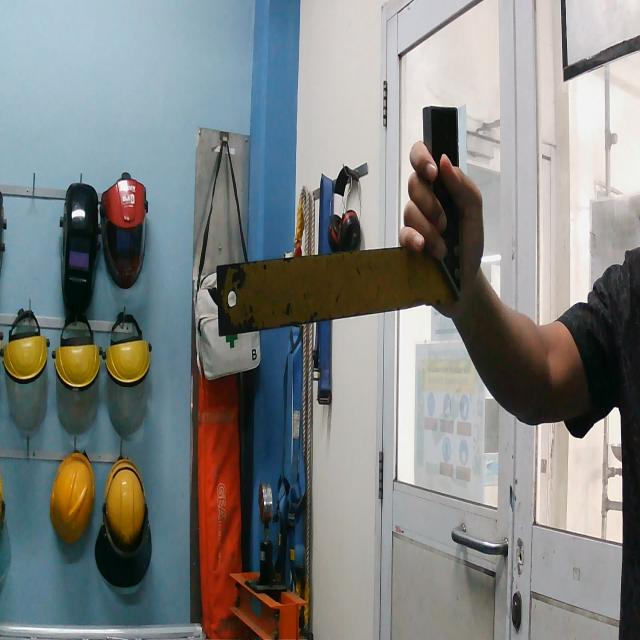penggaris_siku: (207, 100, 467, 347)
